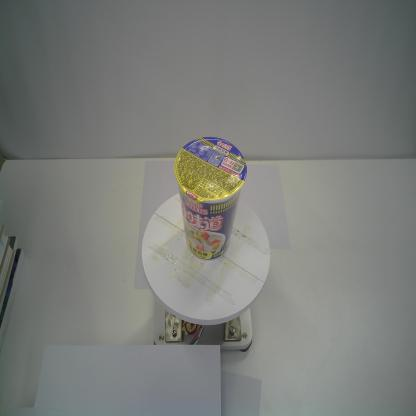Instant Noodles: (174, 135, 249, 263)
